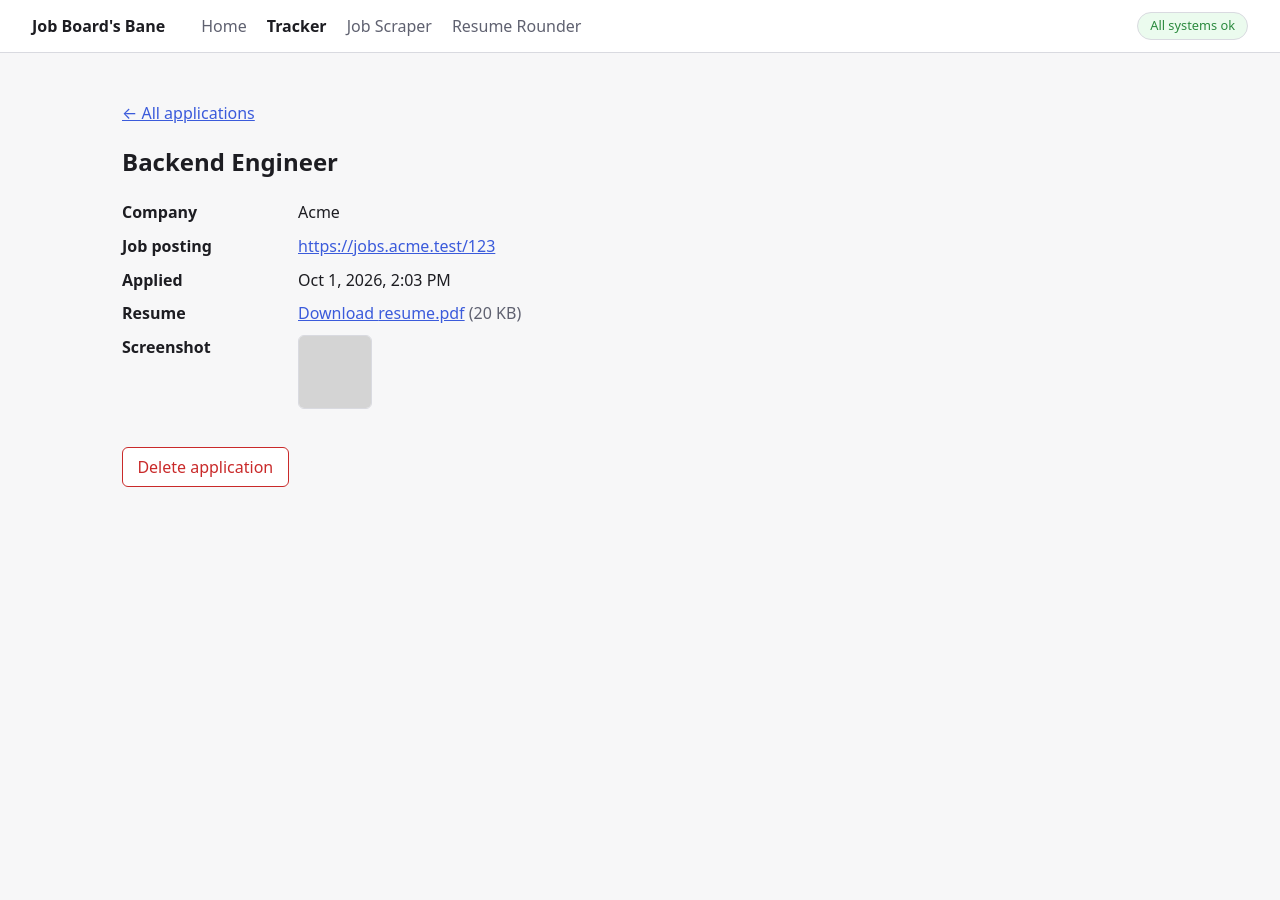
Test: ApplicationDetailPage › asks for confirmation before deleting, then returns to the list
What coordinates should you click on to do the following:
click the button "Delete application"
I would click on:
 (205, 467)
Its box is [122,447,289,487].
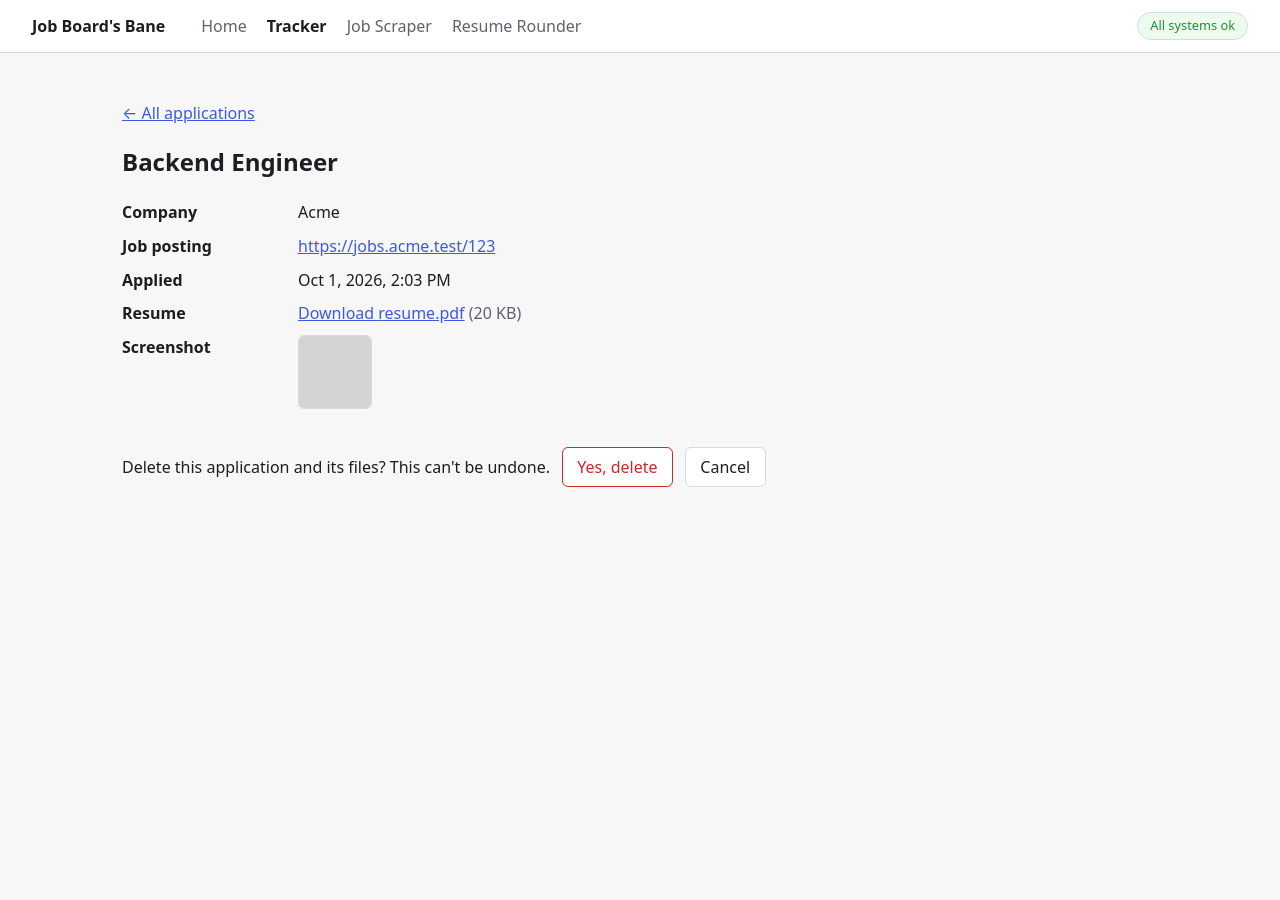
Result: the dialog shows "can't be undone" at [122,456,550,478]
What coordinates should you click on to do the following:
click the button "Cancel"
I would click on:
 (725, 467)
Its box is [685,447,766,487].
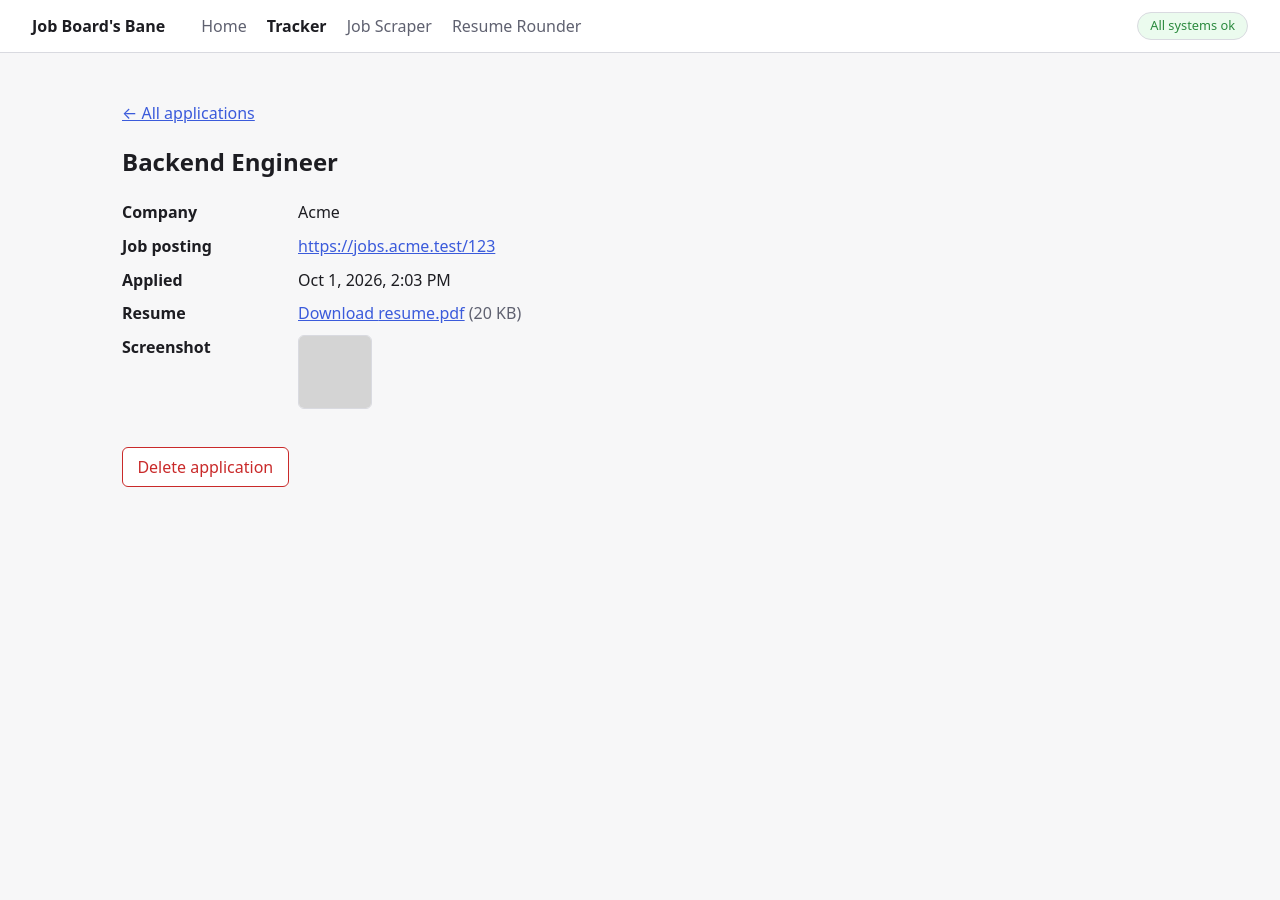
What coordinates should you click on to do the following:
click the button "Delete application"
I would click on:
 (205, 467)
Its box is [122,447,289,487].
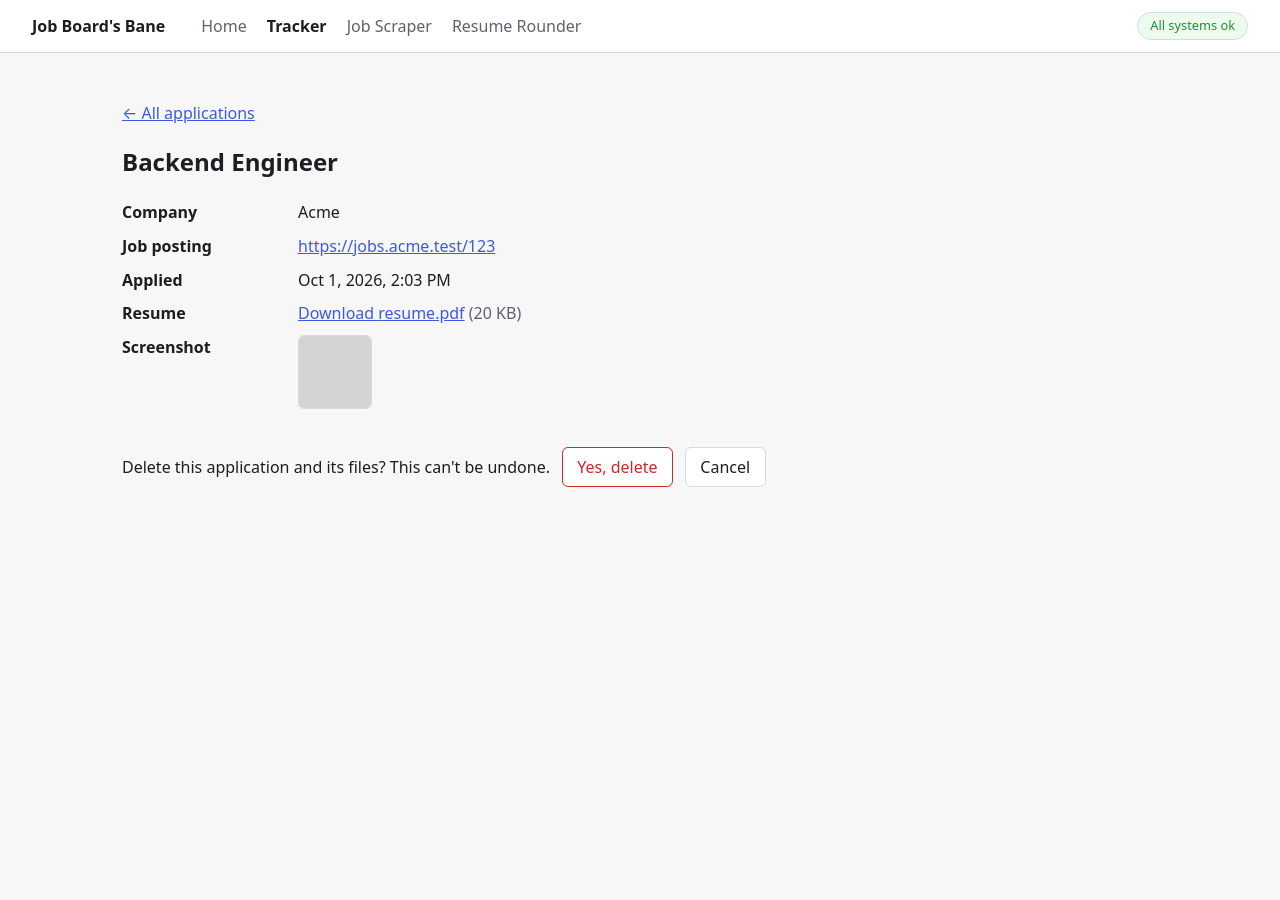
What coordinates should you click on to do the following:
click the button "Yes, delete"
I would click on:
 (618, 467)
Its box is [562,447,673,487].
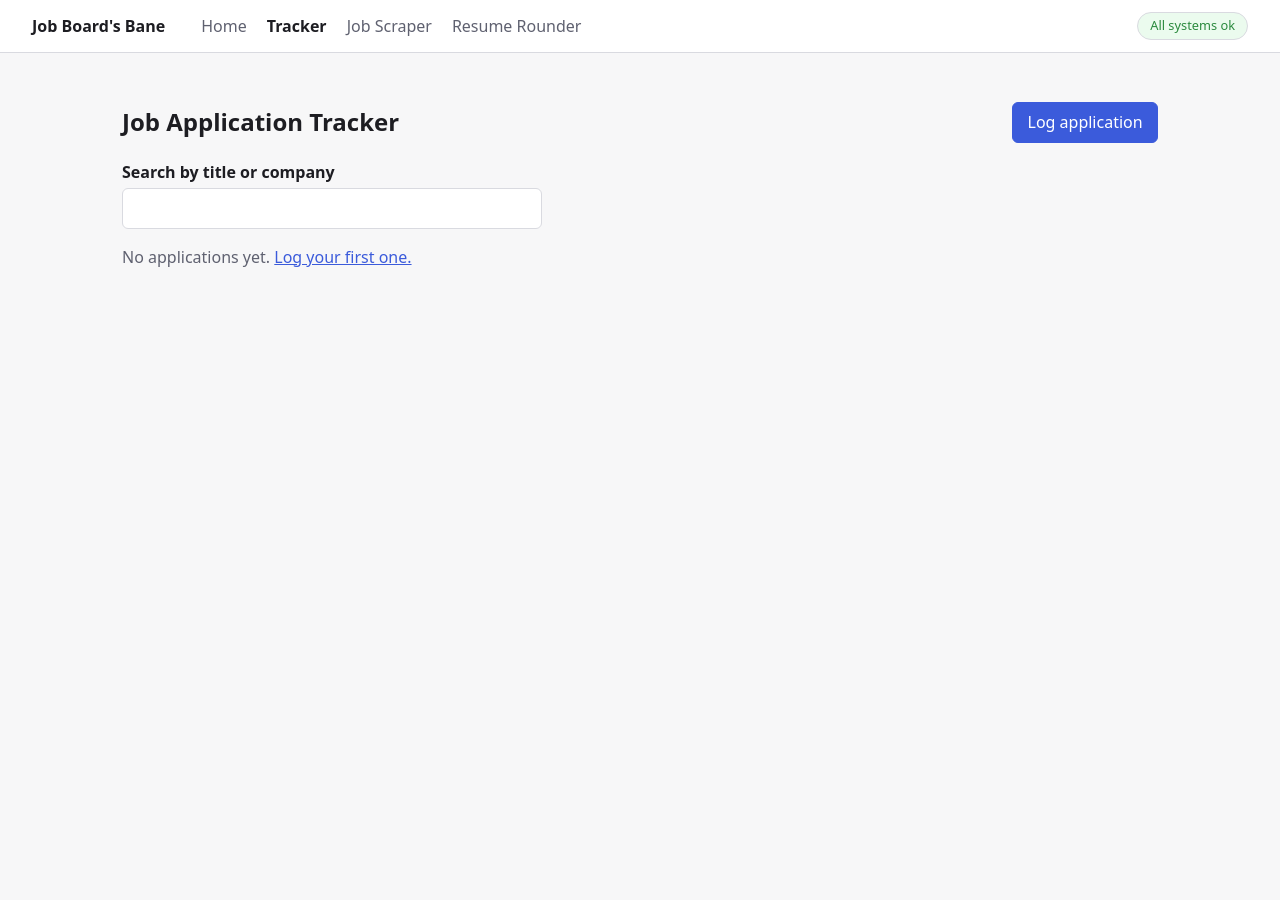
Result: the heading "Job Application Tracker" is shown at [122,104,399,140]
